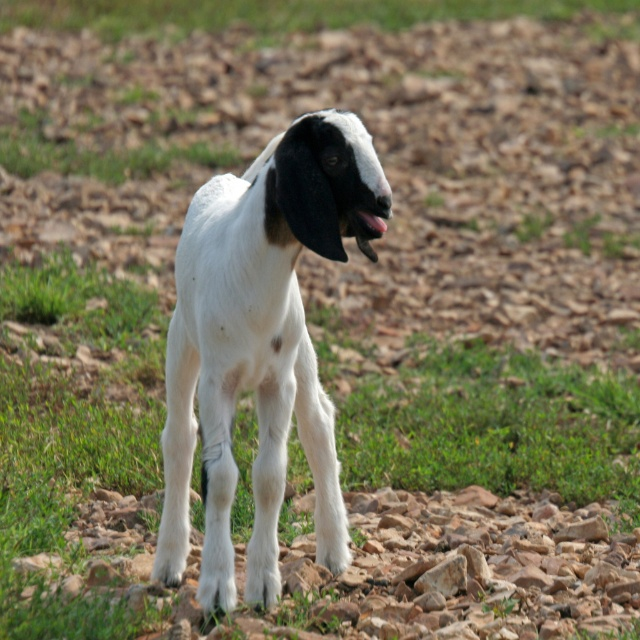Goat: (148, 99, 385, 640)
